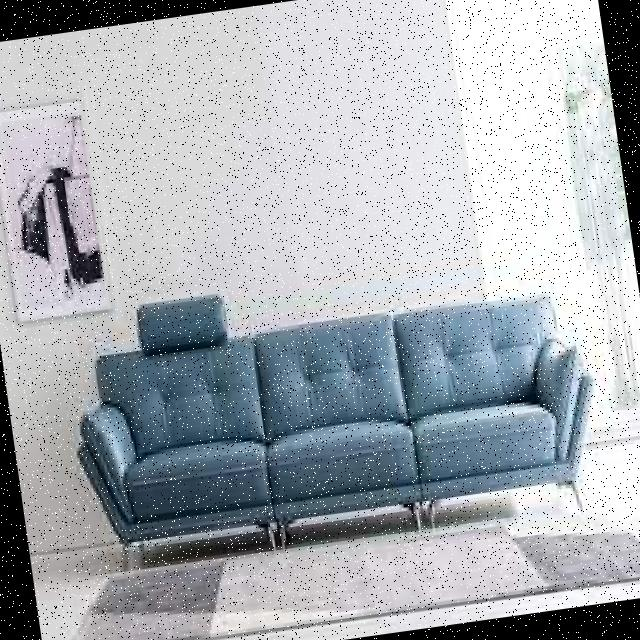Sofa: (32, 224, 636, 597)
